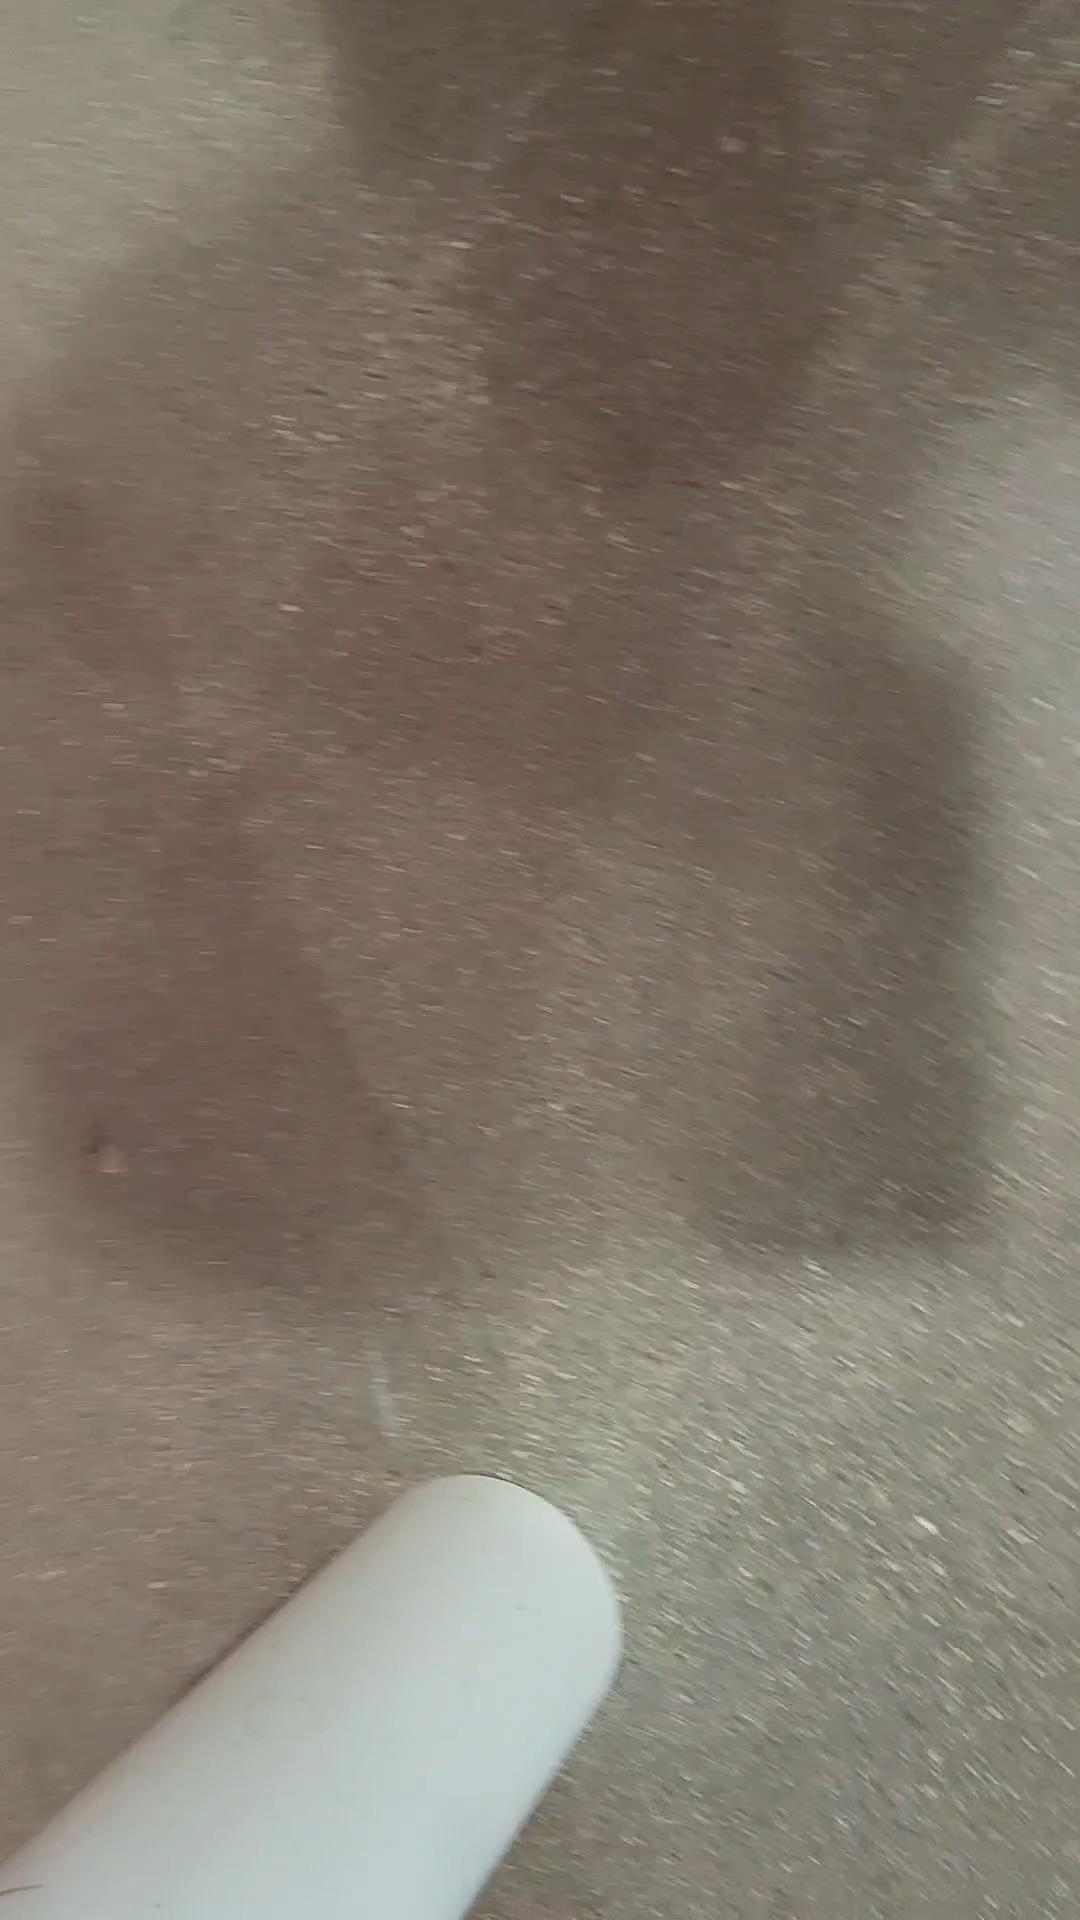coral: (0, 1470, 622, 1920)
